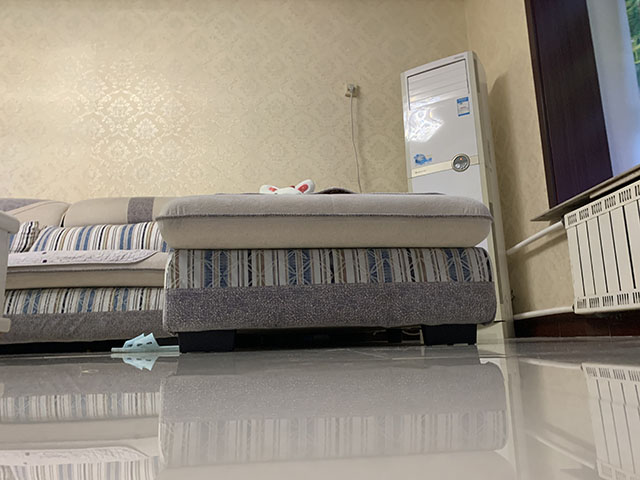slippers: (110, 332, 180, 353)
sofa: (1, 187, 501, 354)
